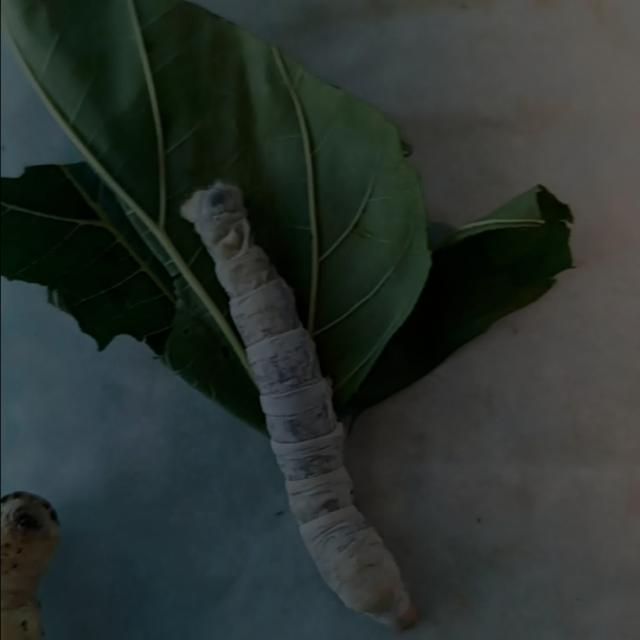Grasserie: (150, 153, 496, 635)
